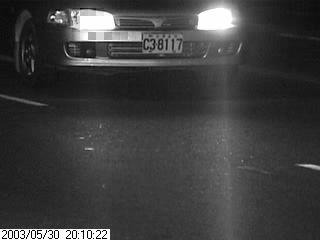plate: (140, 30, 185, 55)
